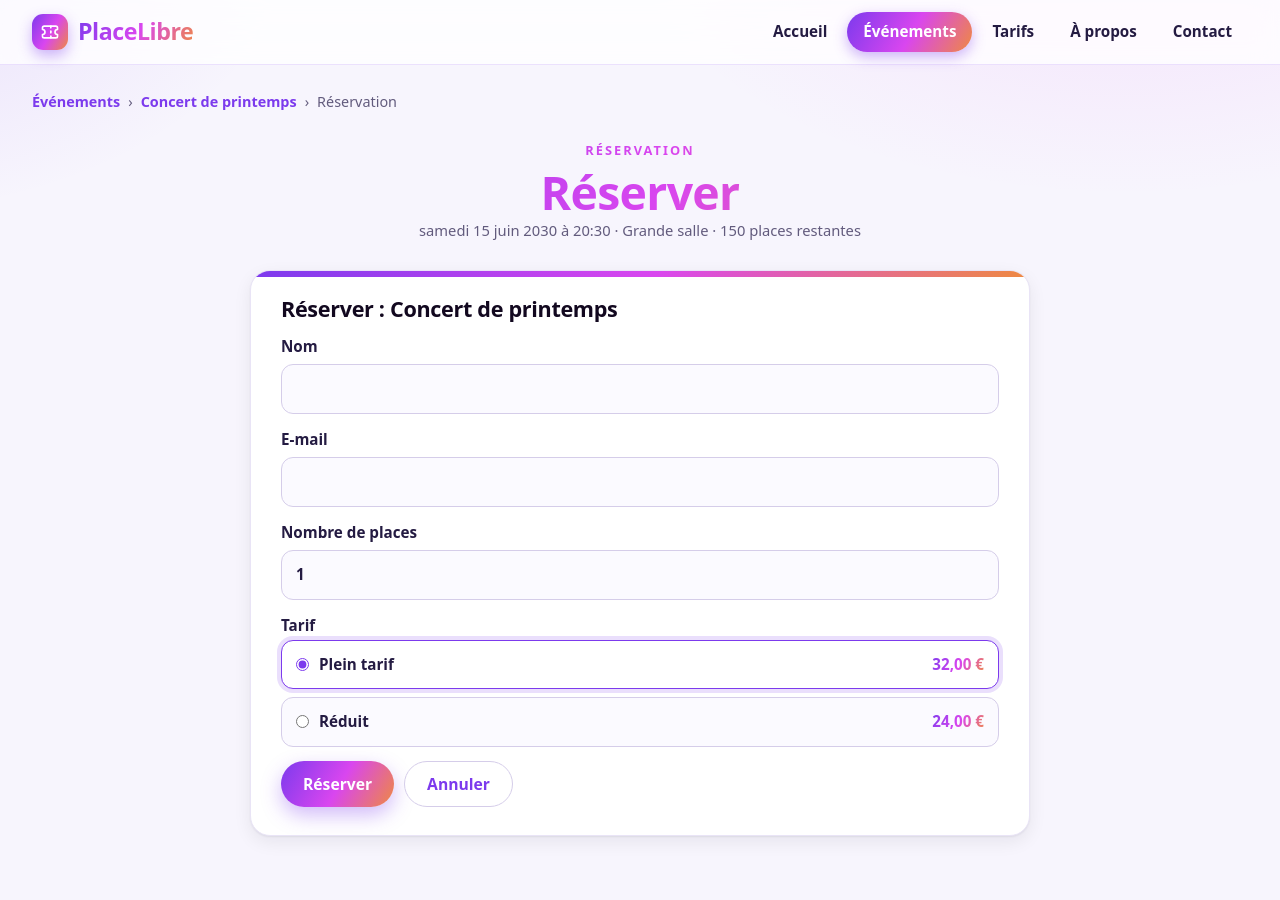
Test: page de réservation (/evenements/:id/reserver) › mène à la page de confirmation après une réservation réussie
Type "Ada" into the field labelled "Nom" at (640, 389), box left=281, top=364, right=999, bottom=414
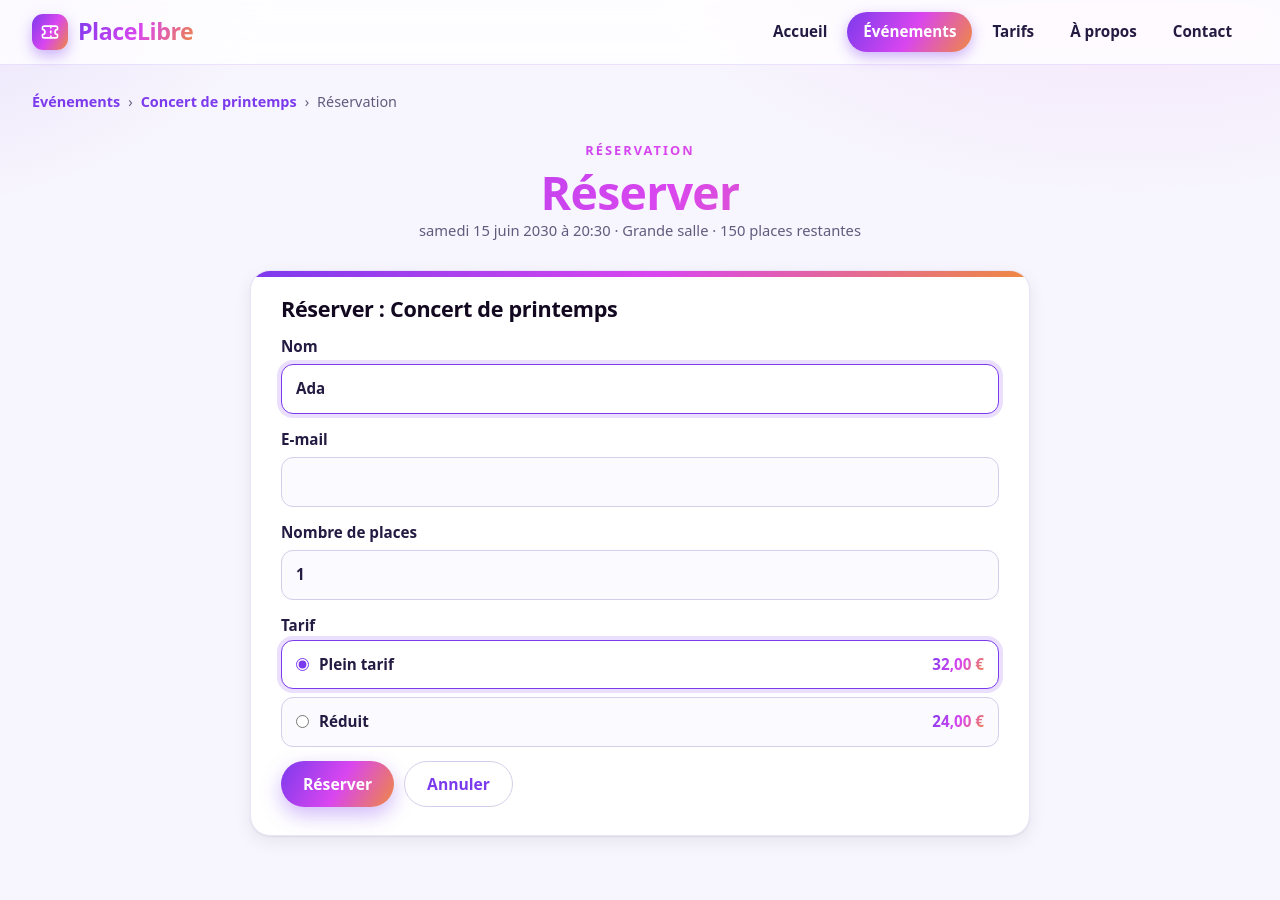
Type "ada@example.com" into the field labelled "E-mail" at (640, 482), box left=281, top=457, right=999, bottom=507
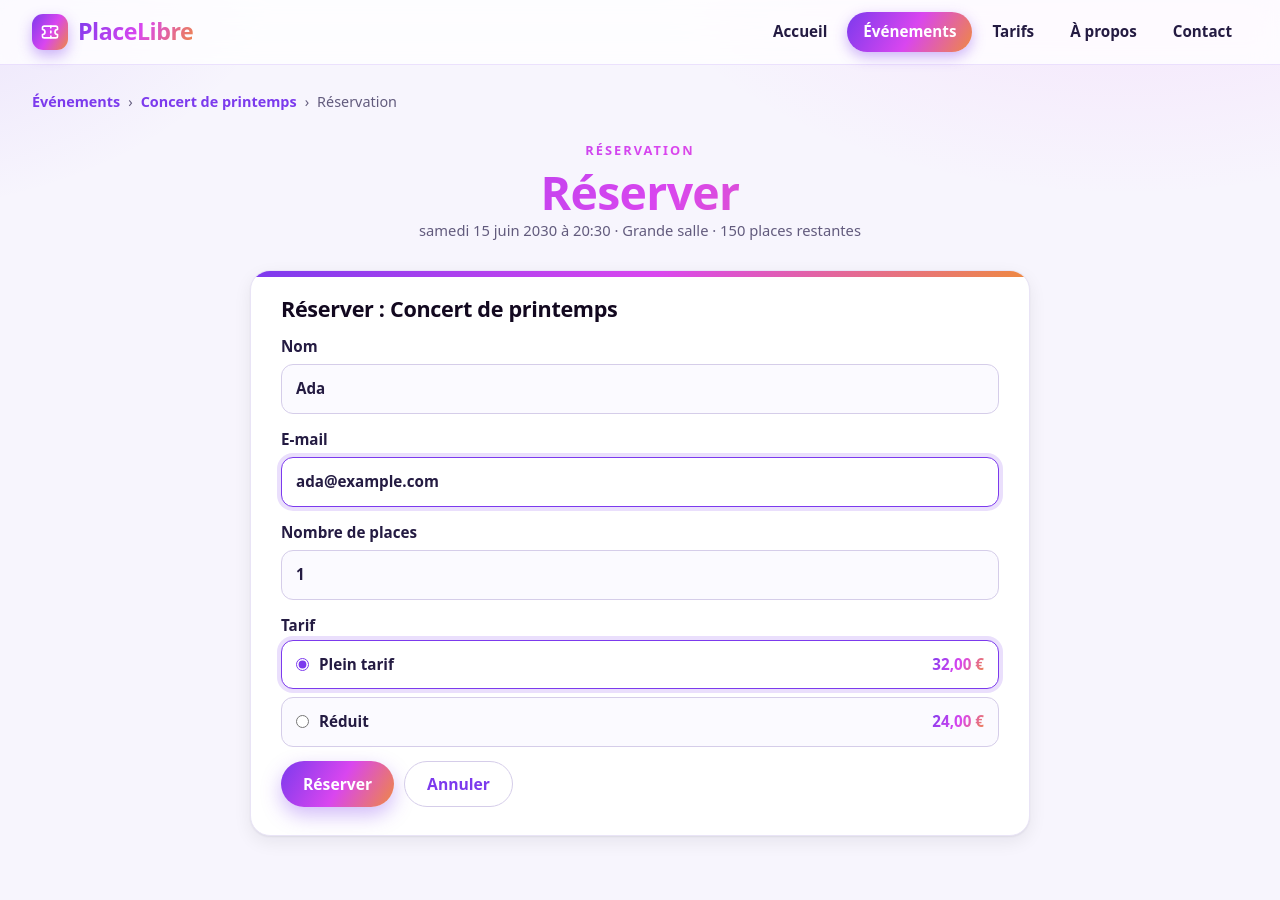
Replace the text in the number field labelled "Nombre de places" with "2" at (640, 575), box left=281, top=550, right=999, bottom=600
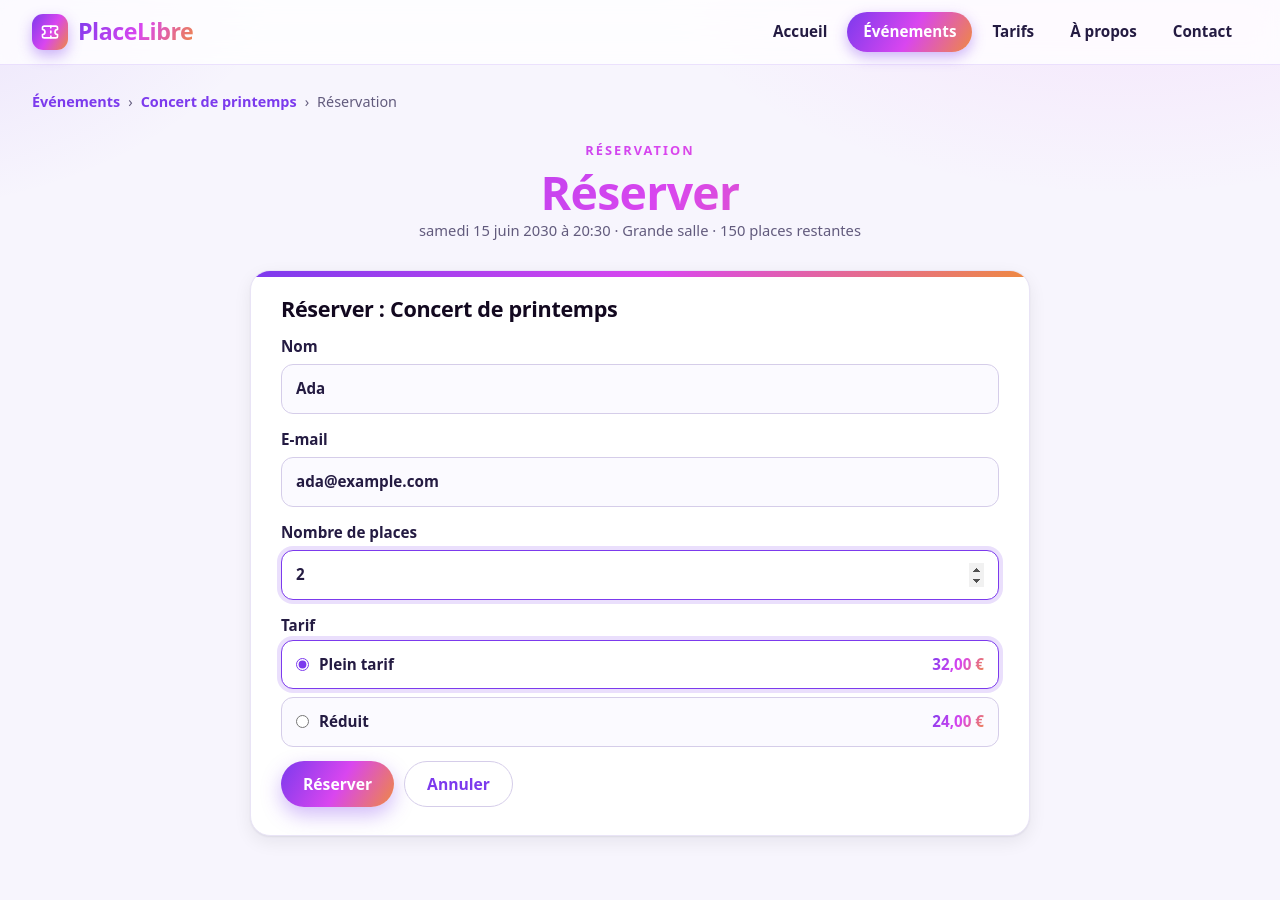
Click the button "Réserver" at (338, 784), box left=281, top=761, right=394, bottom=807
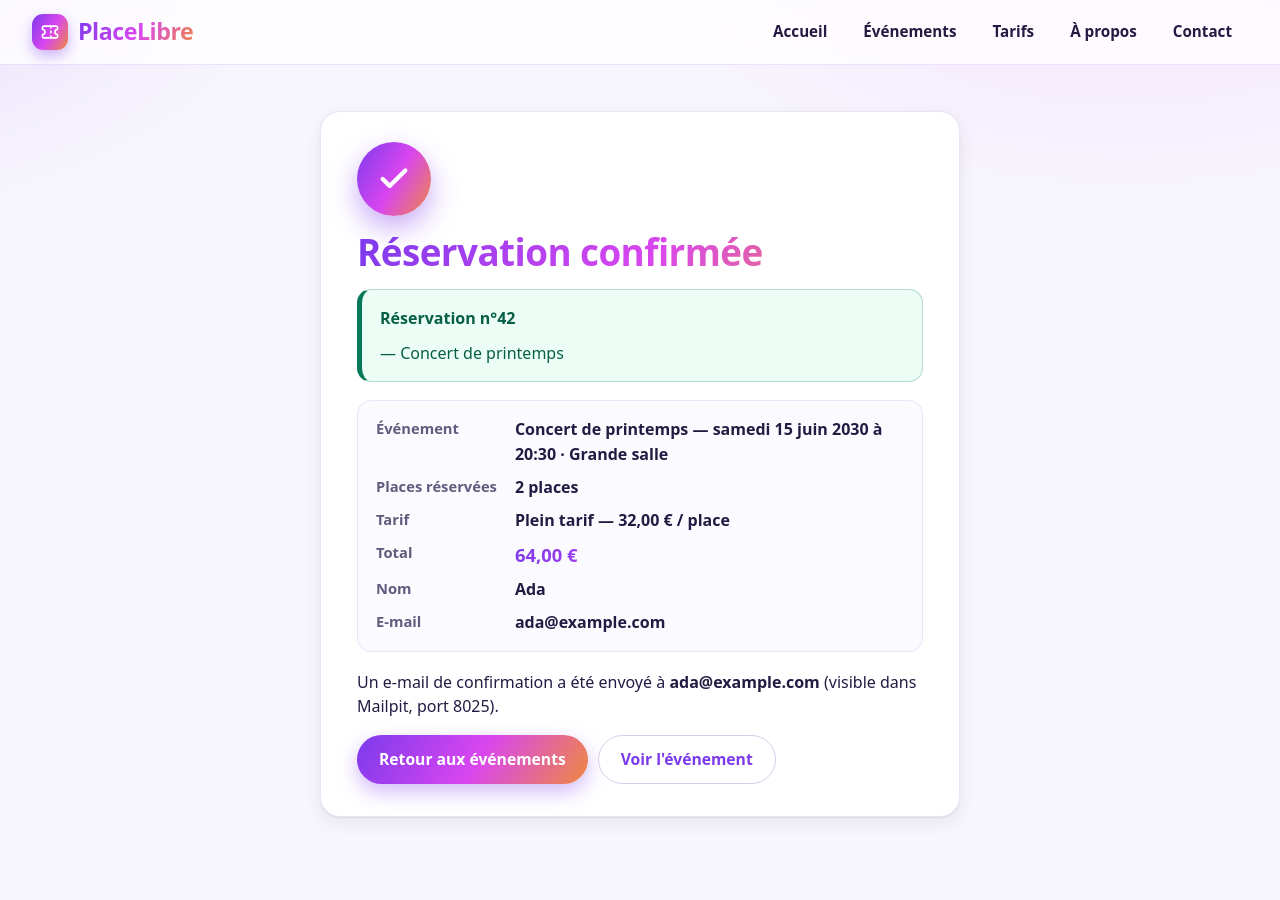
Result: the message shows "Réservation n°42" at left=320, top=111, right=960, bottom=817
Result: the message shows "Concert de printemps" at left=400, top=342, right=564, bottom=364
Result: the message shows "ada@example.com" at left=515, top=611, right=665, bottom=633
